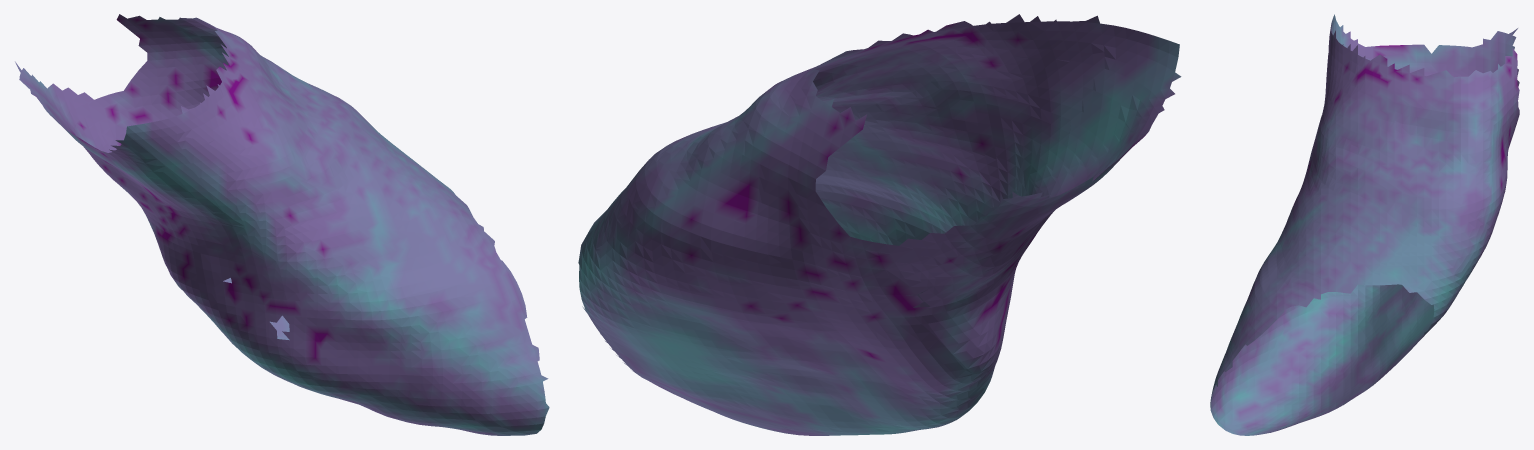
File: crop1036_gap.glb
The picture shows the model from 3 angles, left to right: view 1: azimuth 30°, elevation 25°; view 2: azimuth 150°, elevation 25°; view 3: azimuth 270°, elevation 25°; orthographic projection. The views are drawn at different scales.
Parts seen in each view (by area): view 1: world; view 2: world; view 3: world.
Part boxes in pixels (x1,y1,x2,y2): world: (15,14,549,435); world: (578,14,1181,435); world: (1210,14,1519,435).
Bounding box in the file's own units: 736 × 702 × 673.
